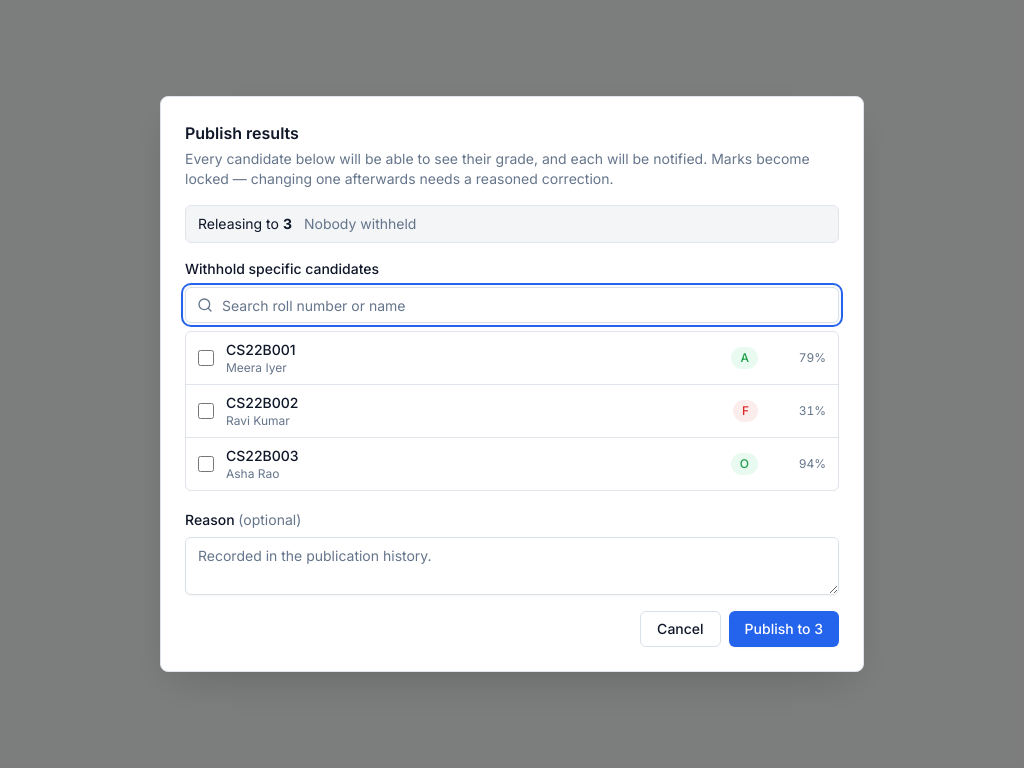
Test: PublishResultsDialog › drops the release count as candidates are withheld
Click the checkbox labelled "CS22B002 Ravi Kumar F 31%".
click(206, 411)  # box x1=198 y1=403 x2=214 y2=419
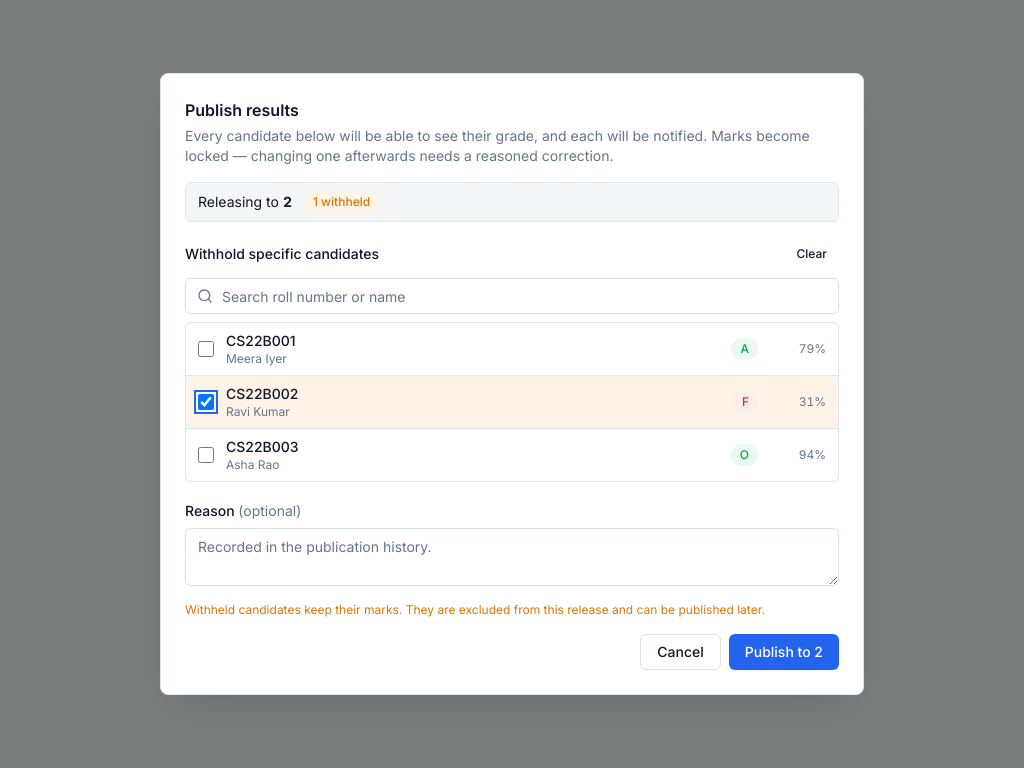
Expected: the button "Publish to 2" is shown, x1=729 y1=634 x2=839 y2=670
Expected: the text "1 withheld" is shown, x1=304 y1=191 x2=379 y2=213
